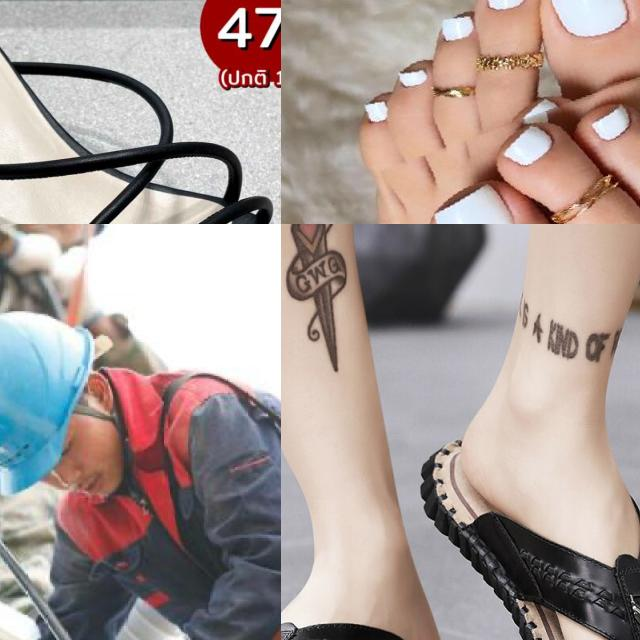Barefoots: (344, 0, 640, 224), (423, 97, 640, 224)
No_Ear-Protection: (84, 370, 117, 419)
Sandals: (0, 0, 281, 224), (507, 400, 640, 640)
face_nomask: (49, 440, 122, 500)
head_helmet: (0, 312, 93, 493)
